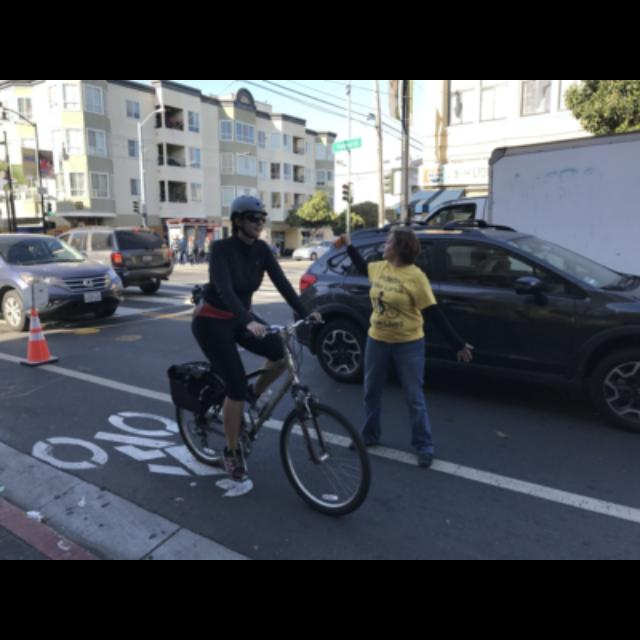Without Helmet: (227, 190, 269, 243)
